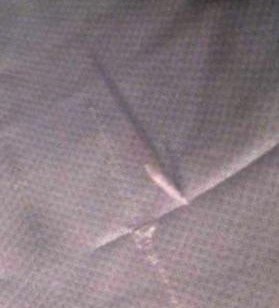snag: (140, 156, 196, 215)
